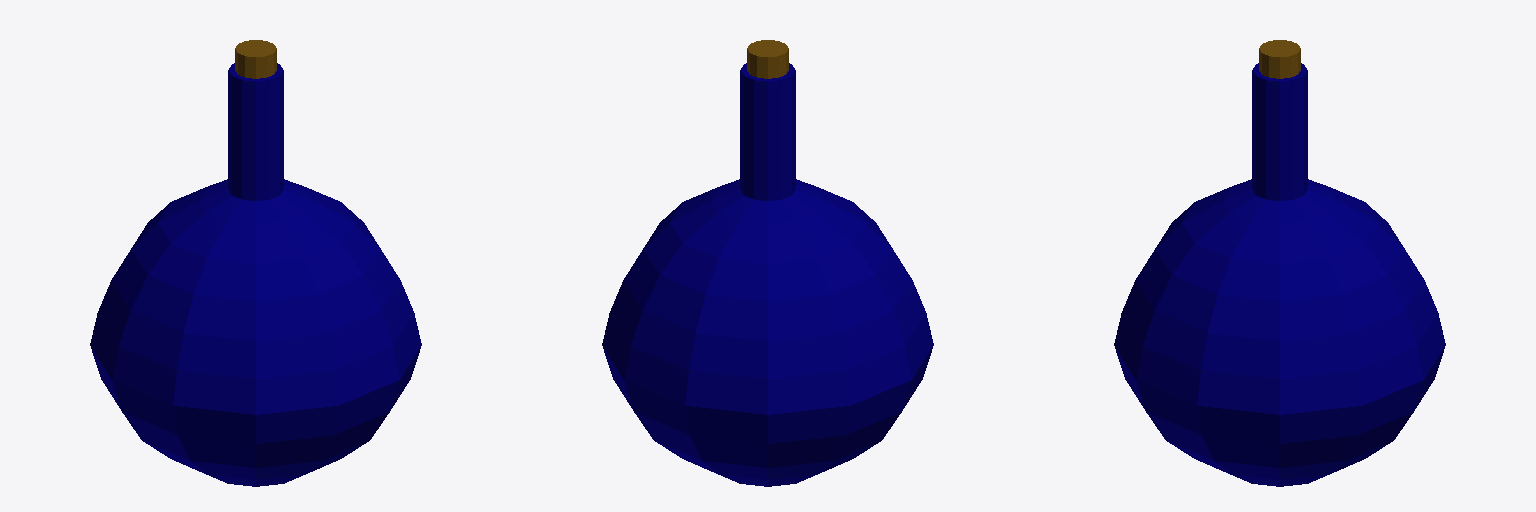
Rendered from BigPotion_Mana.obj.
The picture shows the model from 3 angles: view 1: azimuth 30°, elevation 25°; view 2: azimuth 150°, elevation 25°; view 3: azimuth 270°, elevation 25°; orthographic projection.
Visible parts, largest first — view 1: BigPotion_Mana_Circle.011; view 2: BigPotion_Mana_Circle.011; view 3: BigPotion_Mana_Circle.011.
Boxes of the visible parts, box(x1,y1,x2,y2) form: BigPotion_Mana_Circle.011: box(90, 40, 421, 486); BigPotion_Mana_Circle.011: box(602, 40, 933, 486); BigPotion_Mana_Circle.011: box(1114, 40, 1445, 486).
Bounding box in the file's own units: 8.34 × 11.5 × 8.34.